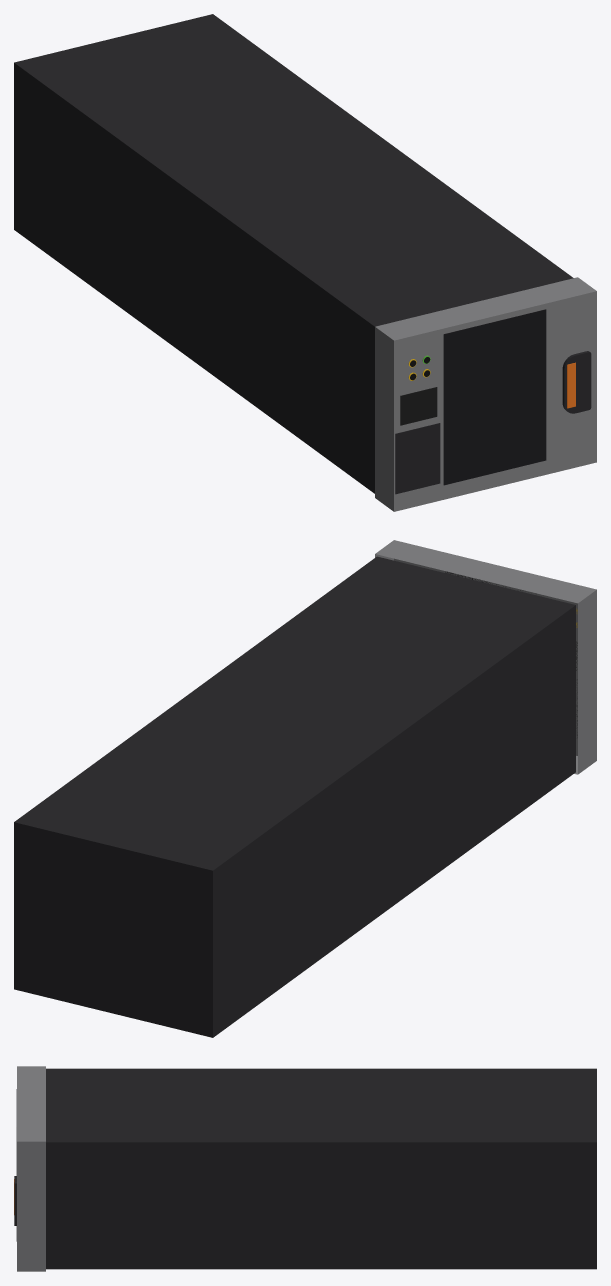
File: ME5-PCM-580W.far.glb
3 views of the same model, one above another, from view 1: azimuth 30°, elevation 25°; view 2: azimuth 150°, elevation 25°; view 3: azimuth 270°, elevation 25° (orthographic). The views are drawn at different scales.
Visible parts, largest first — view 1: PCM_far; view 2: PCM_far; view 3: PCM_far.
Part boxes in pixels (x1=…): PCM_far: x1=14, y1=14, x2=596, y2=511; PCM_far: x1=14, y1=540, x2=596, y2=1037; PCM_far: x1=14, y1=1066, x2=596, y2=1271.
Size of the model in its own units: 0.1045 by 0.0843 by 0.3426.
2 materials, 1 textured.
